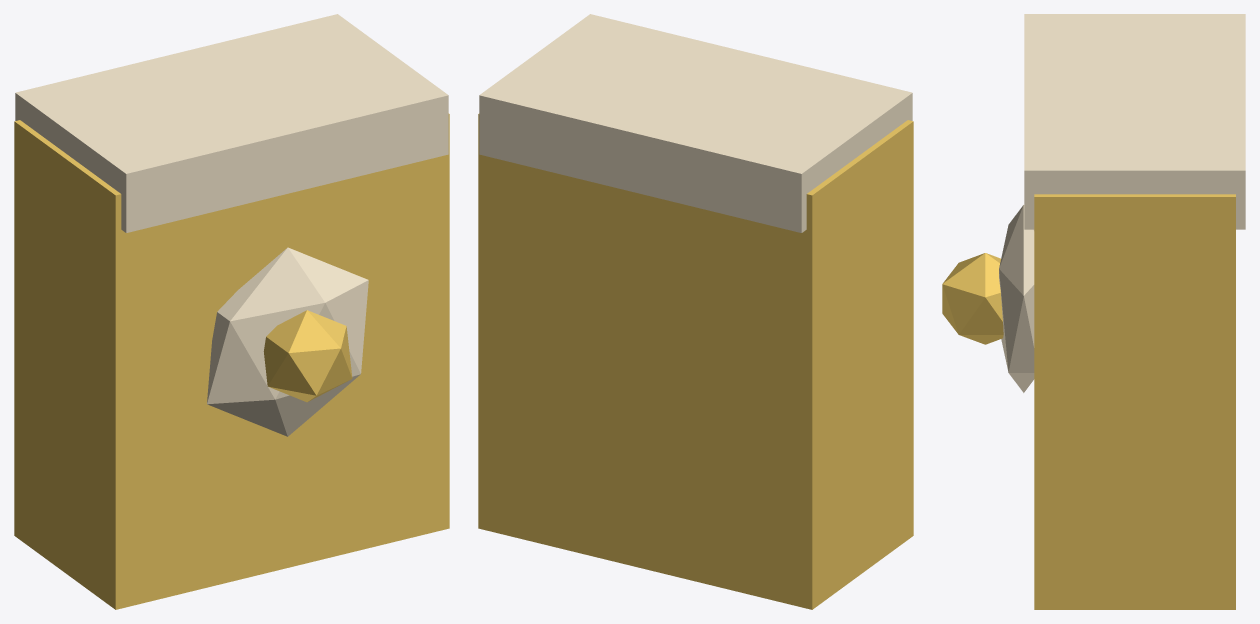
The model's file is fertilizer_golden.glb.
3 views of the same model, side by side, from view 1: azimuth 30°, elevation 25°; view 2: azimuth 150°, elevation 25°; view 3: azimuth 270°, elevation 25° (orthographic).
Visible parts, largest first — view 1: fertilizer pouch.003, folded pouch rim.003, bright emblem.003, gold pellet; view 2: fertilizer pouch.003, folded pouch rim.003; view 3: fertilizer pouch.003, folded pouch rim.003, bright emblem.003, gold pellet.
Part boxes in pixels (box(x1,y1,x2,y2)): fertilizer pouch.003: box(14, 113, 449, 609); folded pouch rim.003: box(15, 14, 448, 232); bright emblem.003: box(207, 247, 368, 436); gold pellet: box(263, 310, 352, 402); fertilizer pouch.003: box(478, 113, 913, 609); folded pouch rim.003: box(479, 14, 912, 232); fertilizer pouch.003: box(1034, 194, 1235, 609); folded pouch rim.003: box(1024, 14, 1245, 229); bright emblem.003: box(999, 204, 1034, 392); gold pellet: box(942, 253, 1003, 344).
Bounding box in the file's own units: 0.59 × 0.74 × 0.4663.
